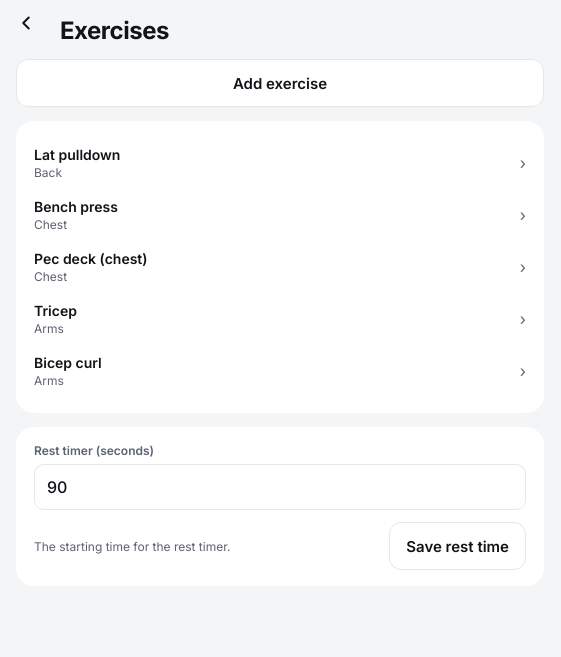
Test: Exercises › adding one puts it at the end; a name that exists (any case) is refused
The width and height of the screenshot is (561, 657).
Click the button "Add exercise" at [280, 83], box x1=16 y1=59 x2=544 y2=107
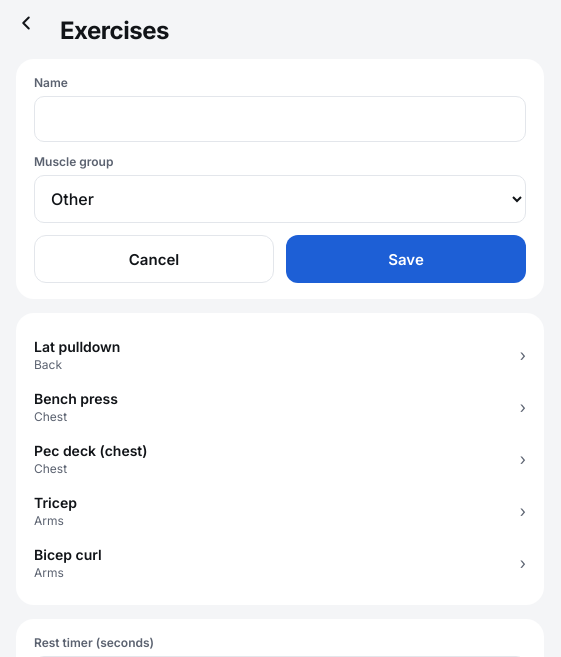
Type "Leg press" into the field labelled "Name" at [280, 119], box x1=34 y1=96 x2=526 y2=142
Select "Legs" in the dropdown labelled "Muscle group" at [280, 199], box x1=34 y1=175 x2=526 y2=223
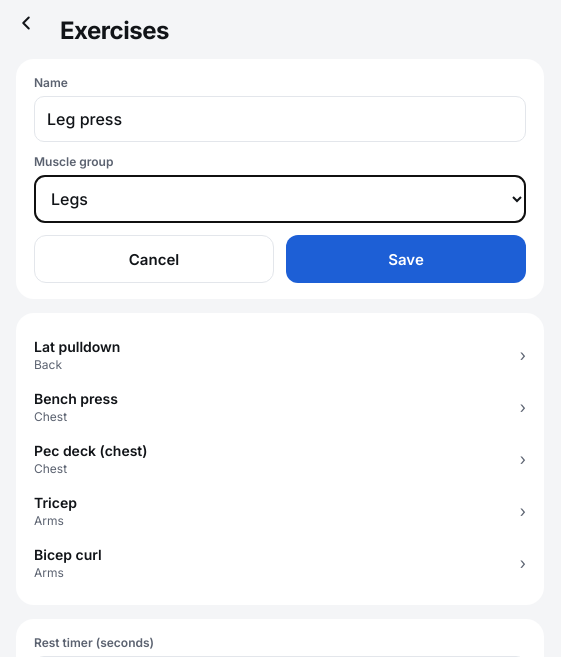
Click the button "Save" at [406, 259], box x1=286 y1=235 x2=526 y2=283
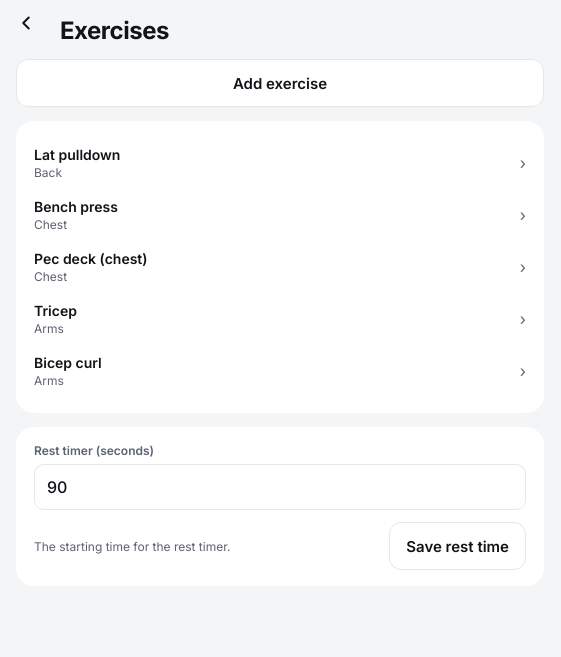
Click the button "Add exercise" at [280, 83], box x1=16 y1=59 x2=544 y2=107
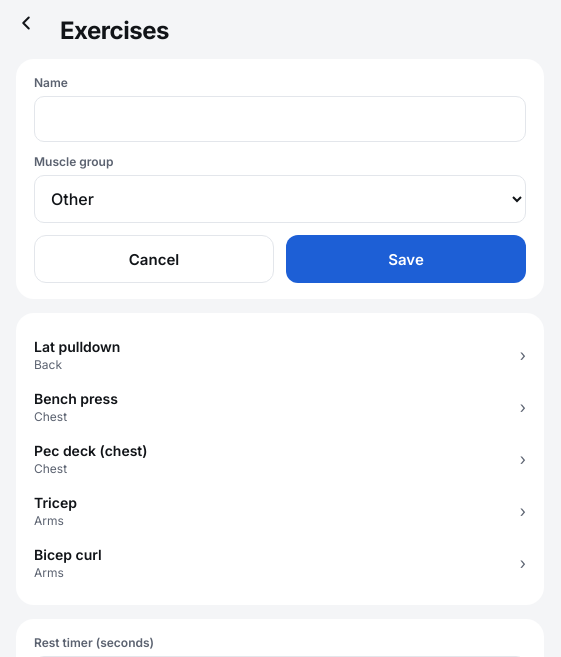
Type "bench PRESS" into the field labelled "Name" at [280, 119], box x1=34 y1=96 x2=526 y2=142
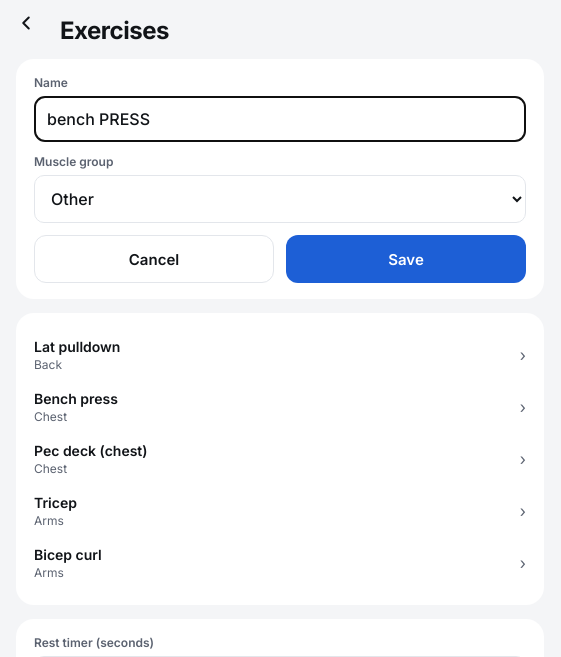
Click the button "Save" at [406, 259], box x1=286 y1=235 x2=526 y2=283
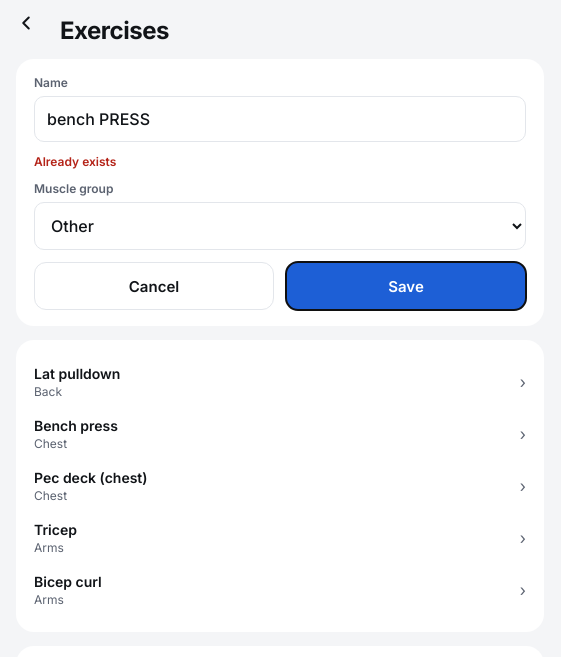
expect the text "Already exists" is shown: met, box x1=34 y1=154 x2=116 y2=169
